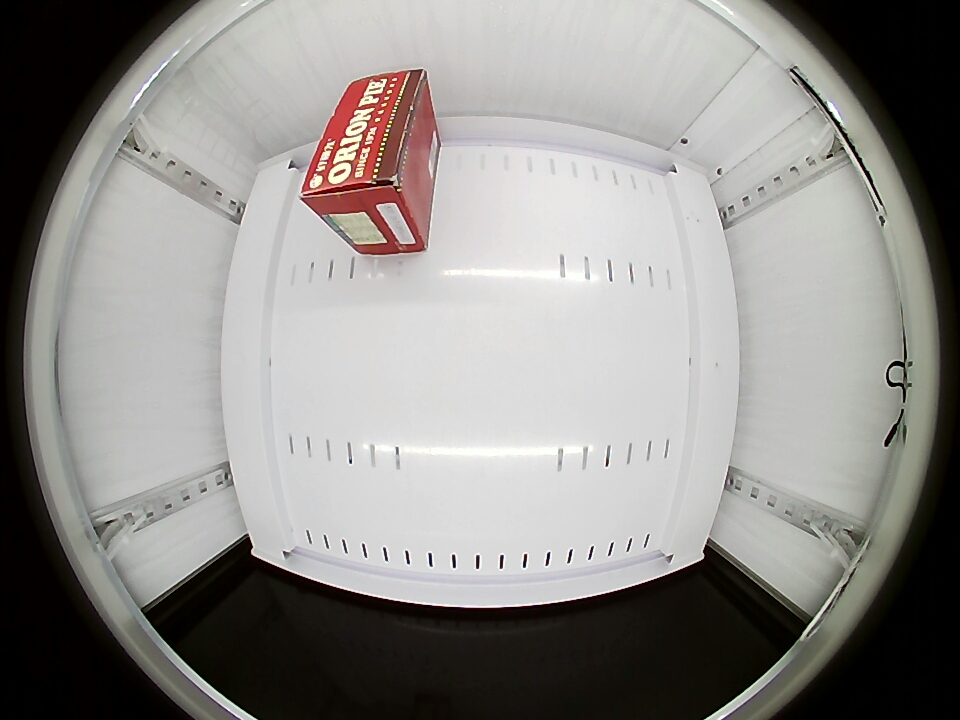haoliyou: (300, 70, 433, 228)
